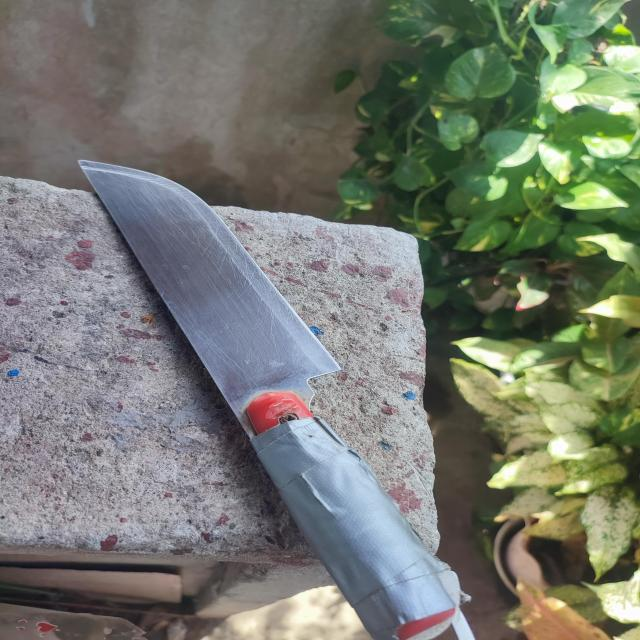knife: (78, 160, 464, 634)
